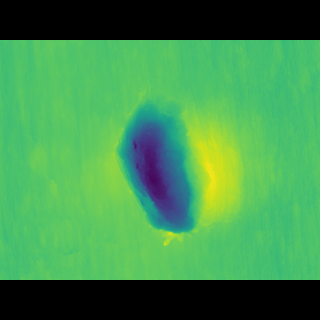Loch: (105, 101, 216, 228)
